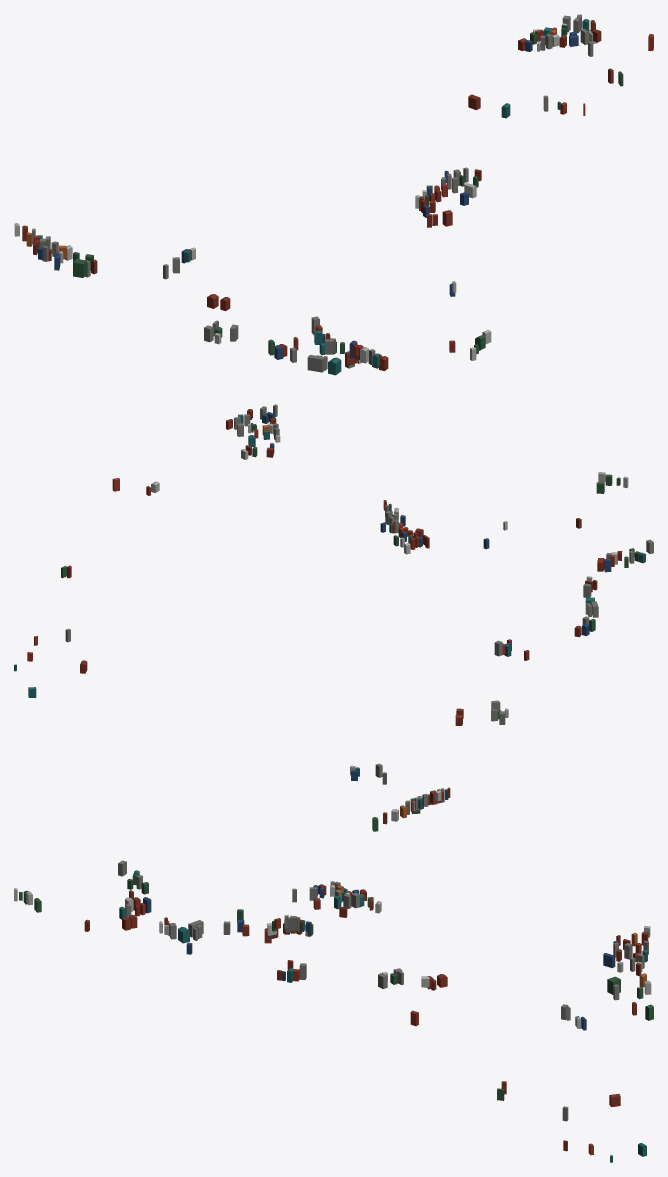
The model's file is near-15-27366-14875.5473d6bf.glb.
3 views of the same model, one above another, from view 1: azimuth 30°, elevation 25°; view 2: azimuth 150°, elevation 25°; view 3: azimuth 270°, elevation 25° (orthographic). The views are drawn at different scales.
Bounding box in the file's own units: 1022 × 542 × 1150.
